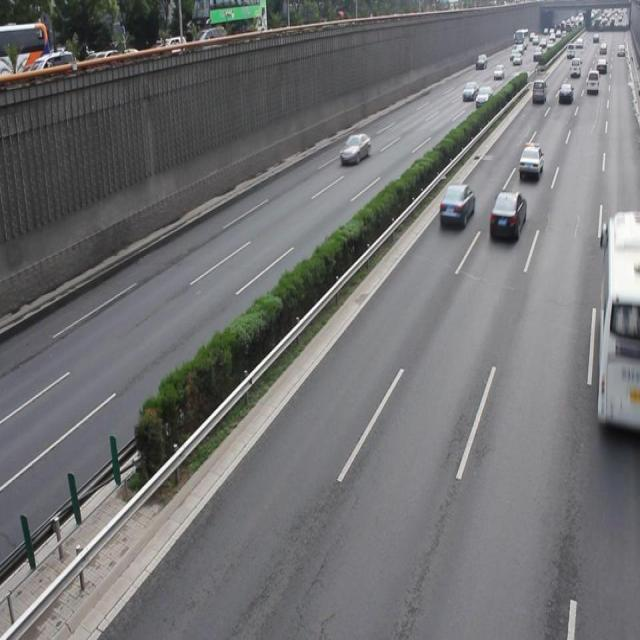car: (489, 190, 526, 240), (439, 182, 474, 228), (339, 132, 370, 165), (518, 144, 542, 180)
van: (597, 212, 640, 435)
